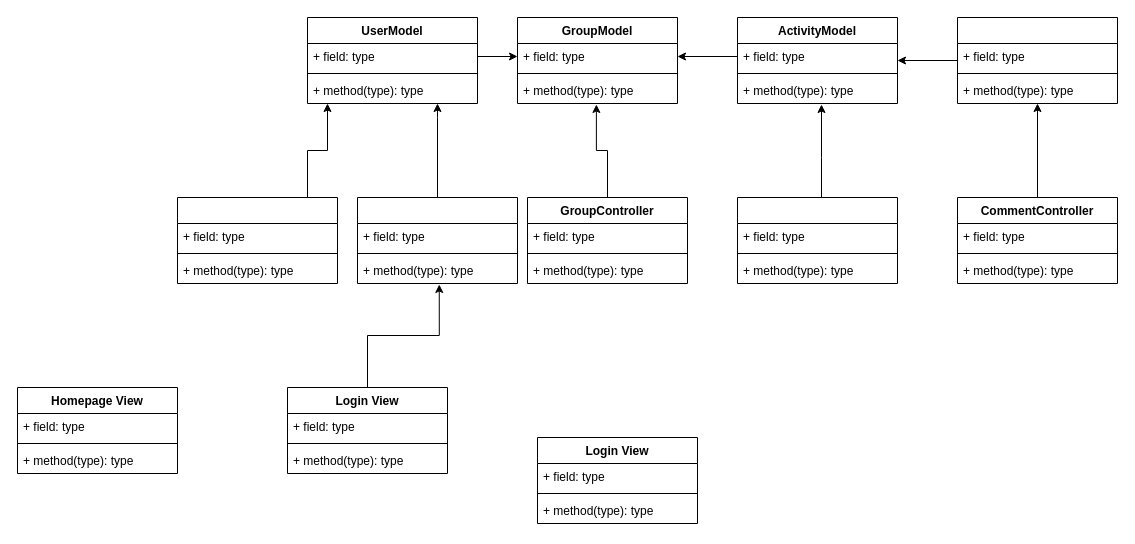
The diagram is 1135 pixels wide and 544 high, and some of its shapes have lost their labels. Each missing label, with the box of its shape:
ActivityController: (736, 196, 898, 284)
CommentModel: (956, 16, 1118, 104)
LoginController: (356, 196, 518, 284)
UserController: (176, 196, 338, 284)
